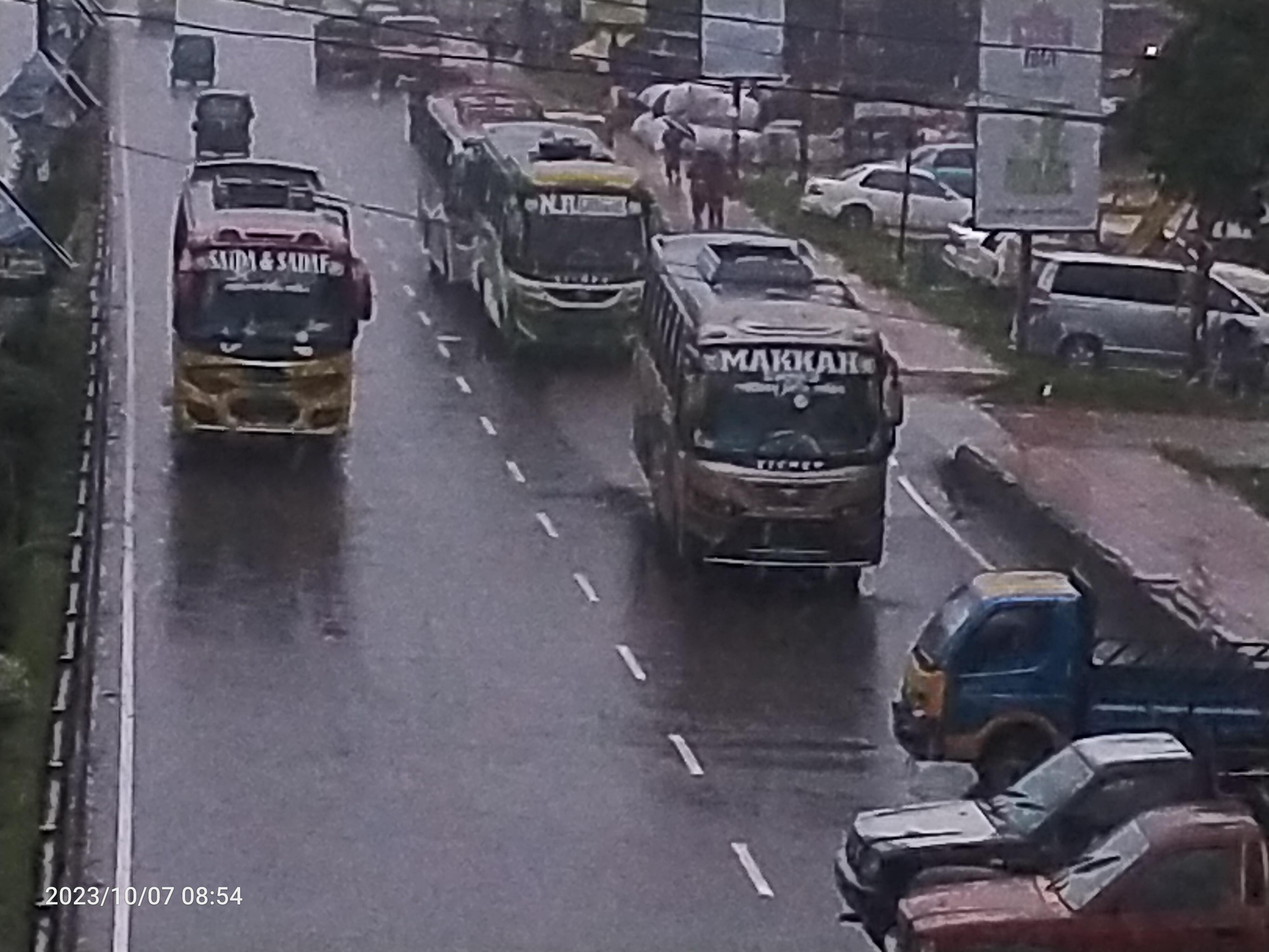Bus: (591, 213, 926, 610), (139, 145, 376, 493), (459, 115, 668, 374), (393, 69, 539, 301)
Car: (1002, 234, 1269, 397), (779, 148, 1030, 260)
Truck: (852, 548, 1269, 799), (805, 708, 1269, 899), (873, 797, 1269, 952)
